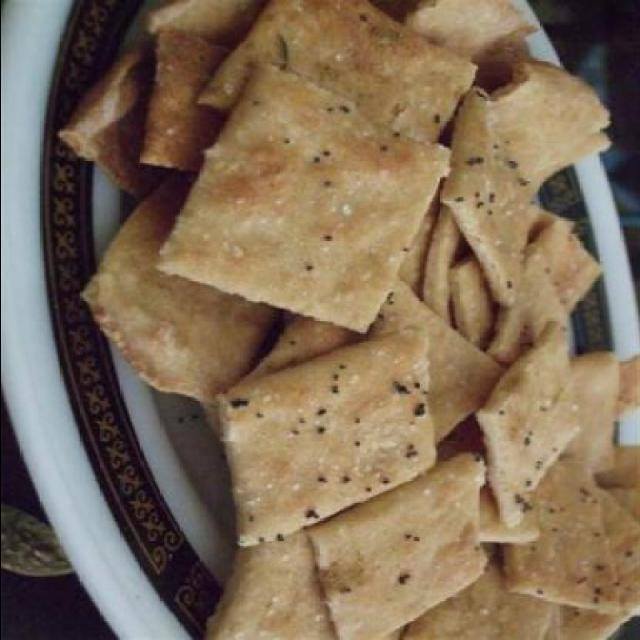Cracker packaged: (153, 70, 450, 318), (207, 323, 443, 560), (466, 328, 590, 537)
